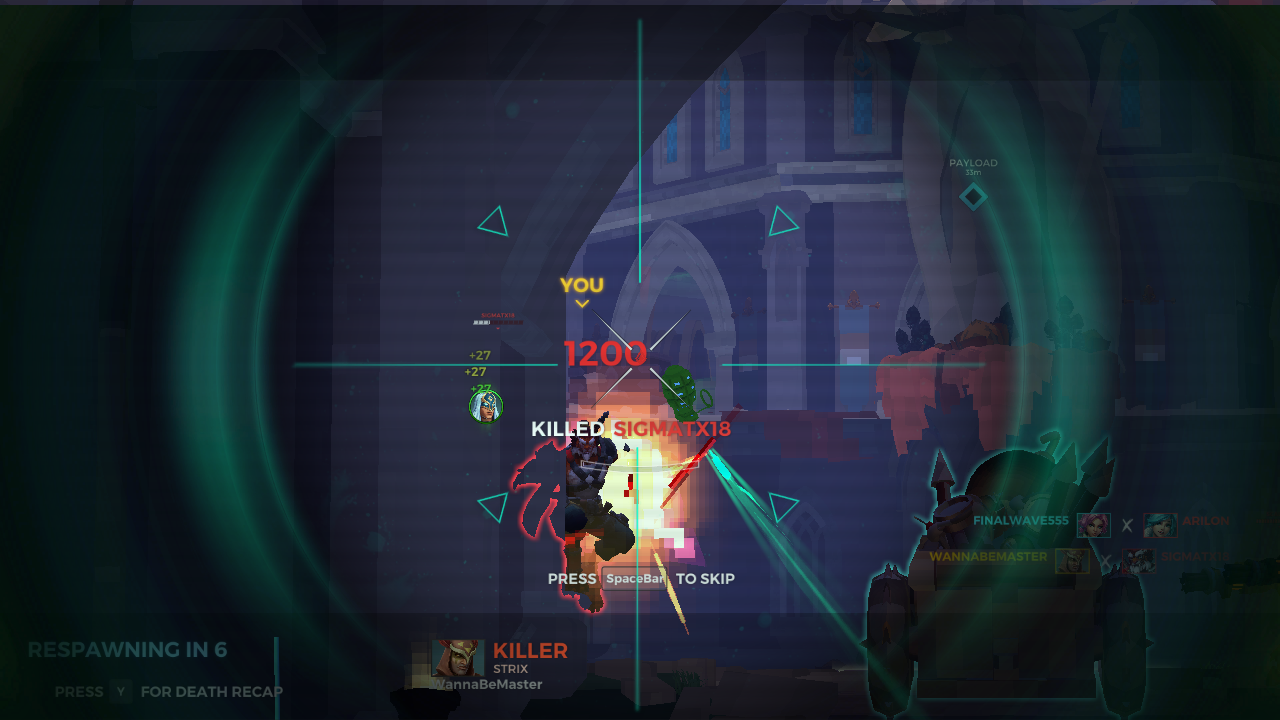model: (514, 418, 622, 615)
